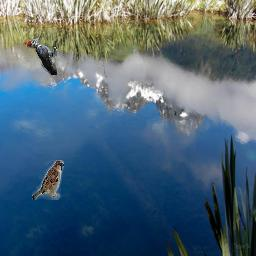Sparrow: (32, 160, 64, 200)
Woodpecker: (27, 35, 57, 75)
